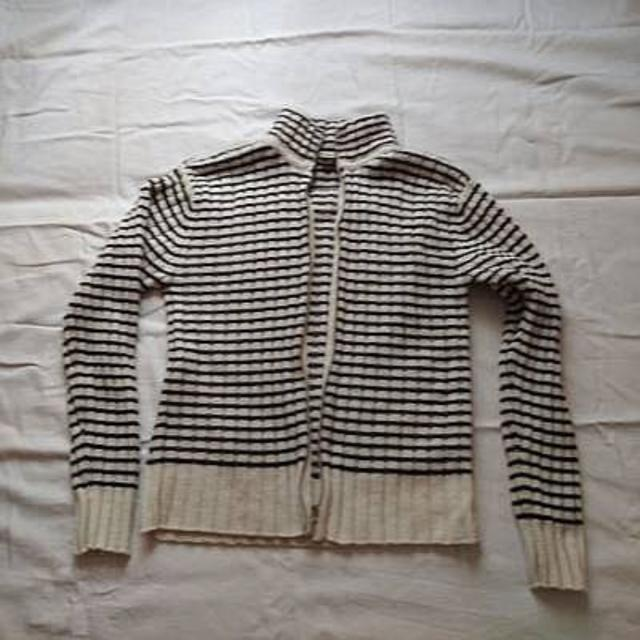SHIRT: (41, 99, 634, 606)
